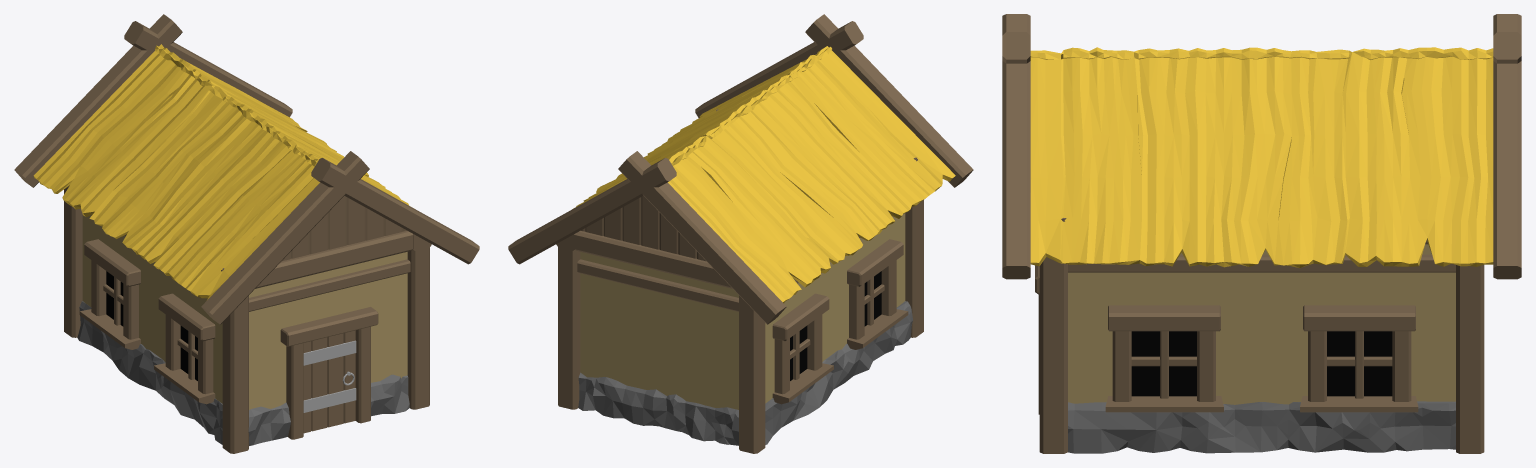
The model's file is House 1.fbx.
The picture shows the model from 3 angles, left to right: view 1: azimuth 30°, elevation 25°; view 2: azimuth 150°, elevation 25°; view 3: azimuth 270°, elevation 25°; orthographic projection. The views are drawn at different scales.
Visible parts, largest first — view 1: House 1; view 2: House 1; view 3: House 1.
Part boxes in pixels (x1,y1,x2,y2): House 1: [14, 14, 479, 453]; House 1: [508, 14, 973, 453]; House 1: [1002, 14, 1521, 453].
Bounding box in the file's own units: 5.28 × 5.24 × 6.69.
